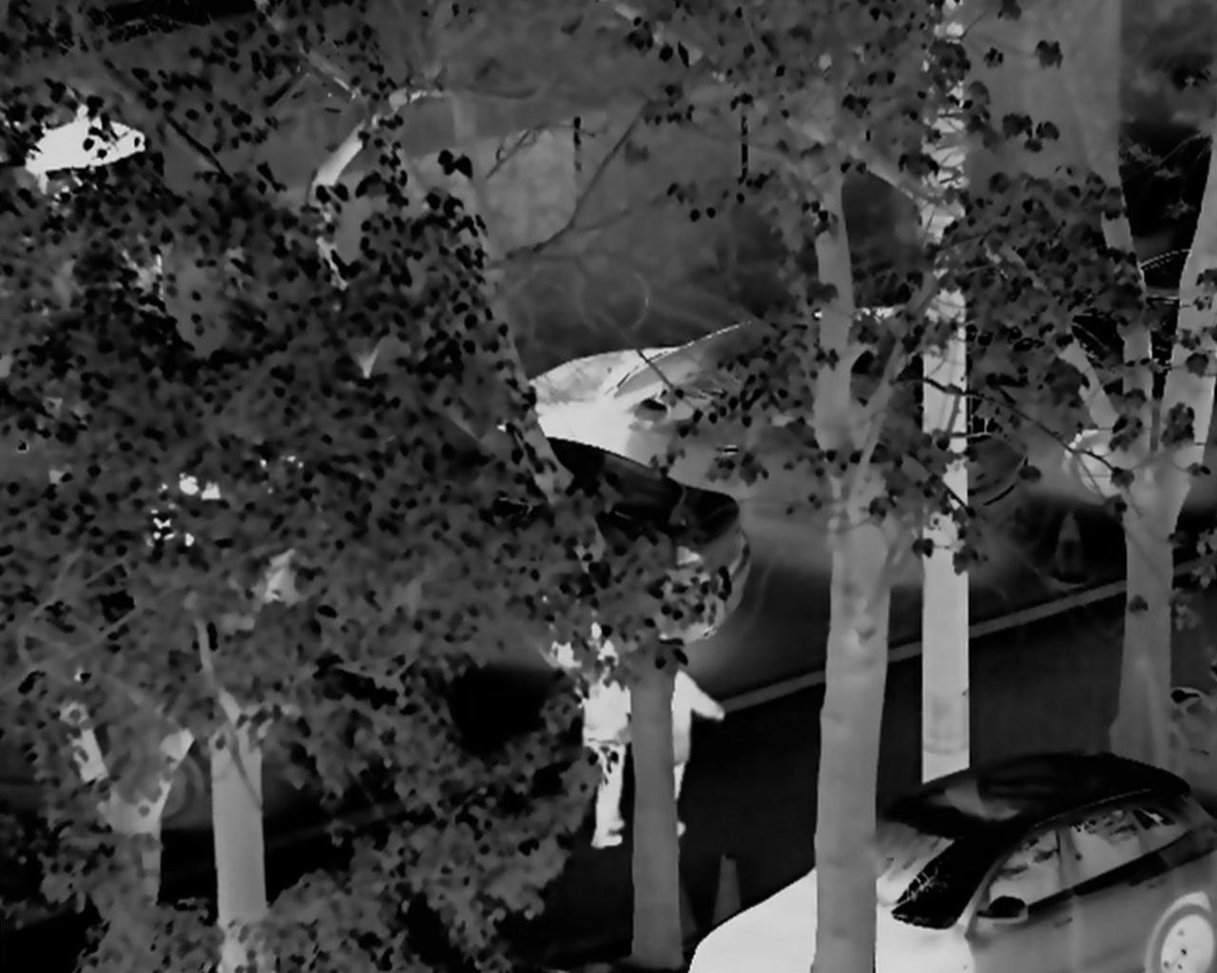person: (638, 662, 726, 853), (560, 650, 631, 866)
